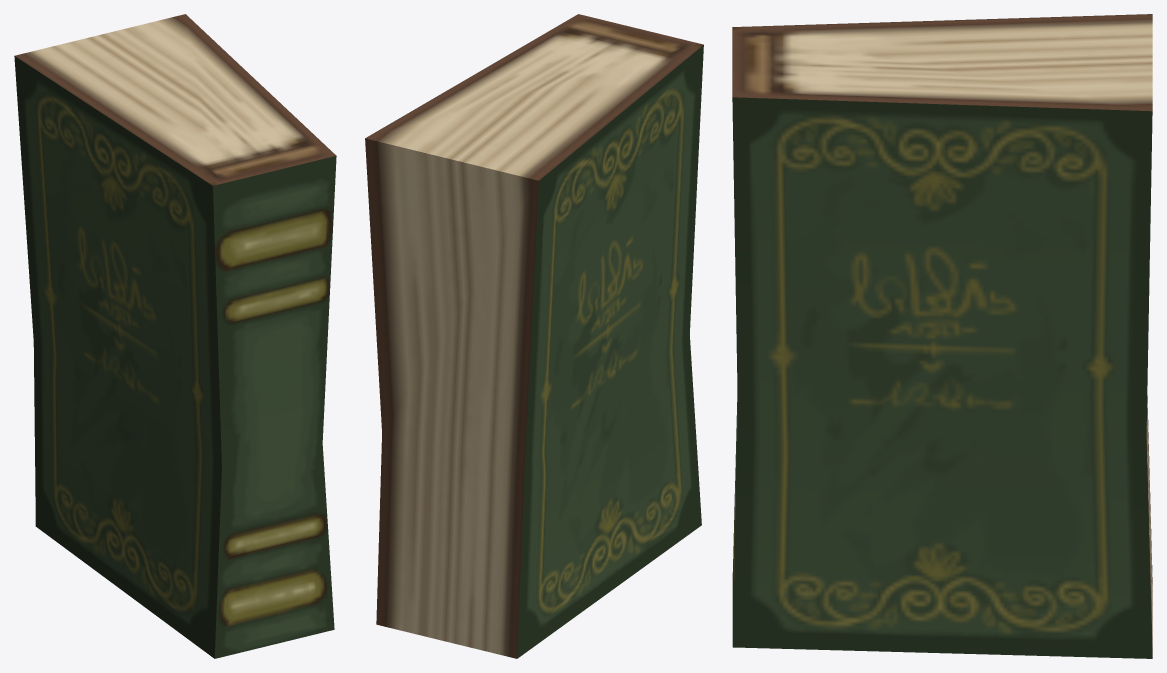
File: SM_PROP_book_city_02.fbx
3 renders of one model, left to right at view 1: azimuth 30°, elevation 25°; view 2: azimuth 150°, elevation 25°; view 3: azimuth 270°, elevation 25°, orthographic. The views are drawn at different scales.
Visible parts, largest first — view 1: SM_PROP_book_city_02; view 2: SM_PROP_book_city_02; view 3: SM_PROP_book_city_02.
Boxes of the visible parts, x1,y1,x2,y2 form: SM_PROP_book_city_02: [14, 14, 336, 658]; SM_PROP_book_city_02: [365, 14, 703, 658]; SM_PROP_book_city_02: [732, 14, 1152, 658].
Bounding box in the file's own units: 13.49 × 35.83 × 24.62.
